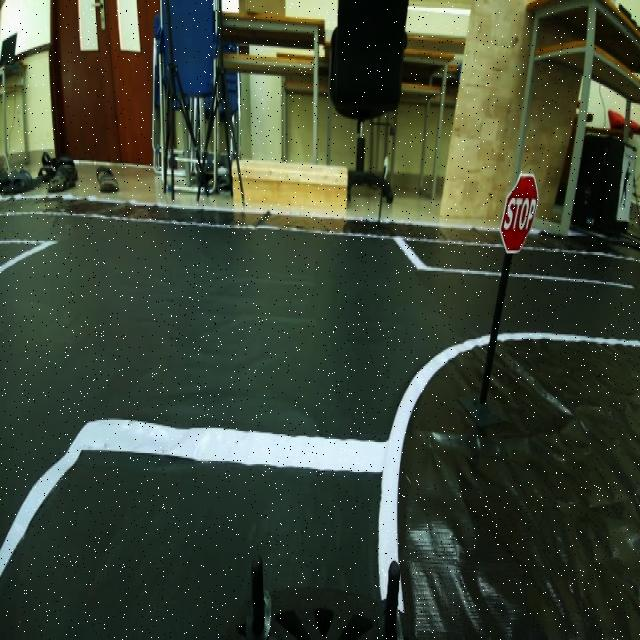stop: (500, 164, 541, 251)
